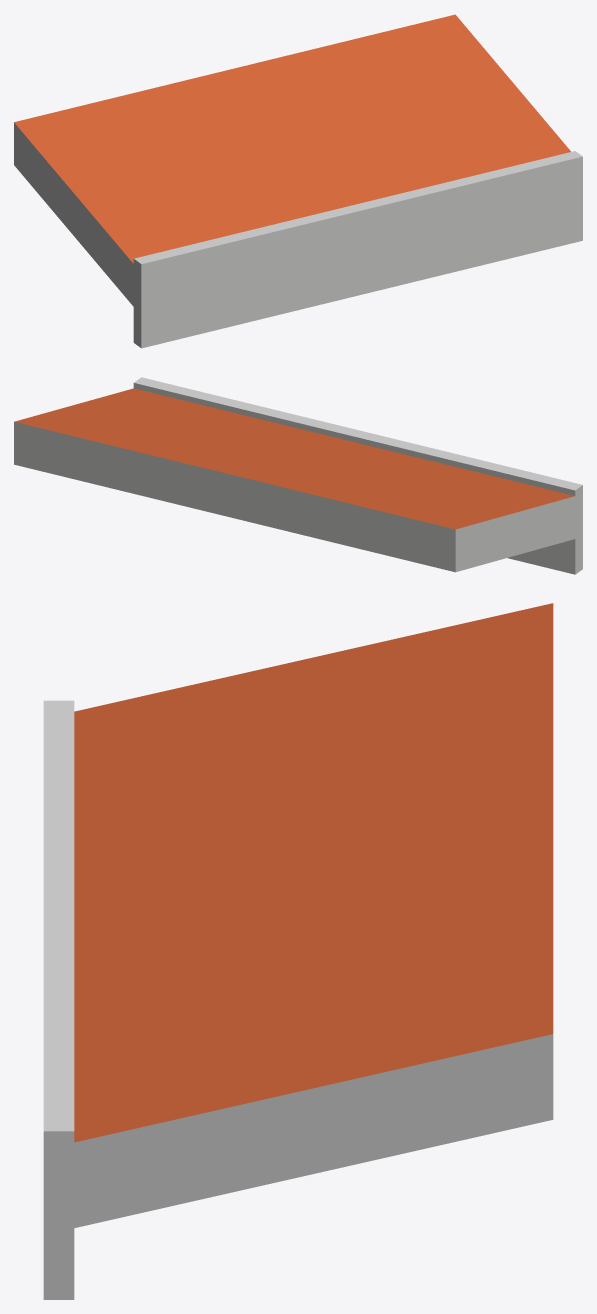
The model's file is telhado_beiral_i25_1m.glb.
The picture shows the model from 3 angles, top to bottom: view 1: azimuth 30°, elevation 25°; view 2: azimuth 150°, elevation 25°; view 3: azimuth 270°, elevation 25°; orthographic projection. The views are drawn at different scales.
Visible parts, largest first — view 1: telhado_beiral_i25_1m; view 2: telhado_beiral_i25_1m; view 3: telhado_beiral_i25_1m.
Part boxes in pixels (box(x1,y1,x2,y2)): telhado_beiral_i25_1m: box(14, 14, 582, 348); telhado_beiral_i25_1m: box(14, 377, 582, 574); telhado_beiral_i25_1m: box(43, 603, 553, 1299).
Size of the model in its own units: 1 by 0.2878 by 0.5.
